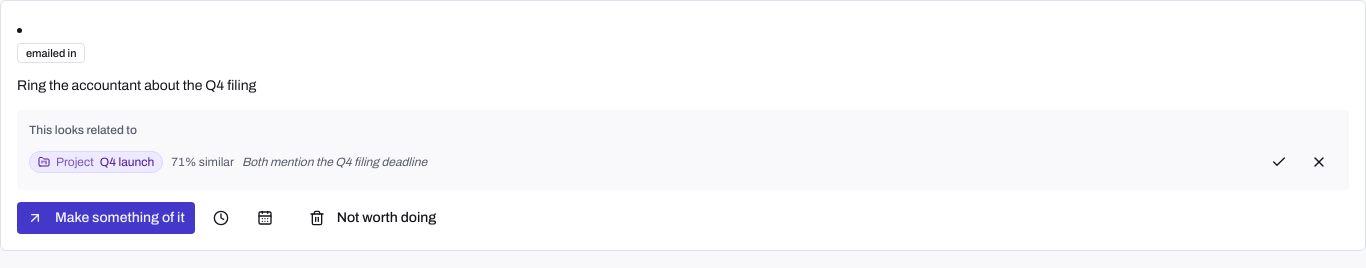
Scenario: ThoughtCard › hides an actioned suggestion straight away
The width and height of the screenshot is (1366, 268).
Click the button named "accept this connection" at point(1279, 162), box [1261,146,1297,178]
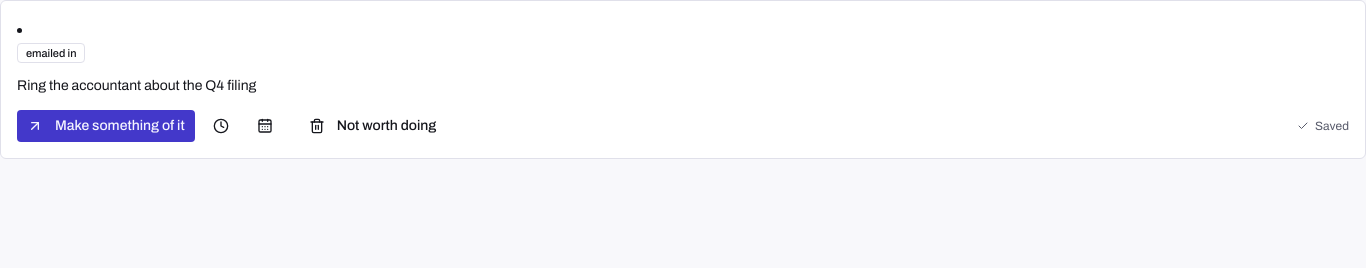
Now the link "Q4 launch" is gone
